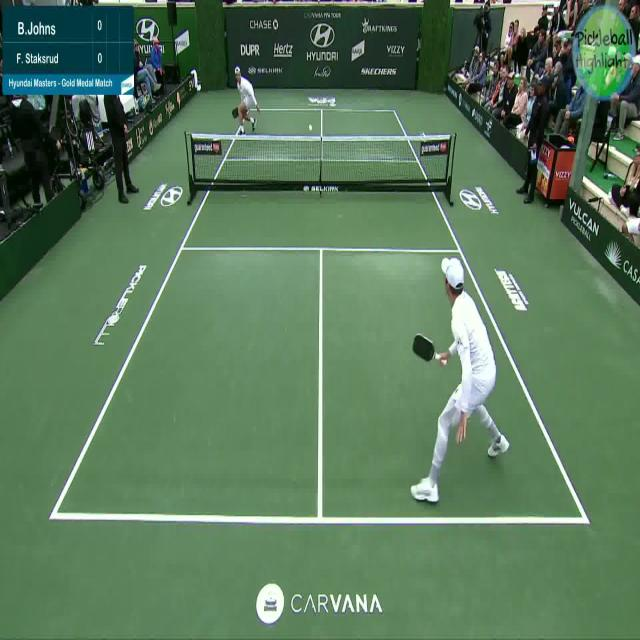Court: (53, 108, 591, 525)
ball: (306, 121, 315, 133)
